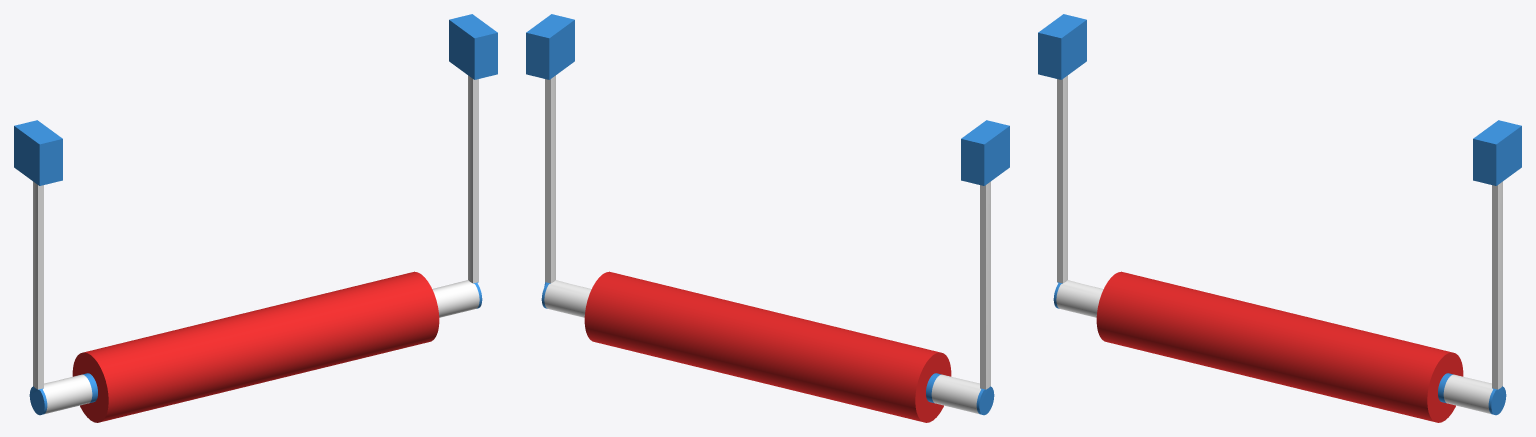
The model's file is obstacle1.fbx.
The picture shows the model from 3 angles, left to right: view 1: azimuth 30°, elevation 25°; view 2: azimuth 150°, elevation 25°; view 3: azimuth 330°, elevation 25°; orthographic projection.
Parts seen in each view (by area): view 1: Cylinder.001; view 2: Cylinder.001; view 3: Cylinder.001.
Part boxes in pixels (left/top/right/bottom): Cylinder.001: left=14, top=14, right=497, bottom=422; Cylinder.001: left=526, top=14, right=1009, bottom=422; Cylinder.001: left=1038, top=14, right=1521, bottom=422.
Size of the model in its own units: 215 by 135 by 29.31.
Materials: 1 (1 with a texture image).
